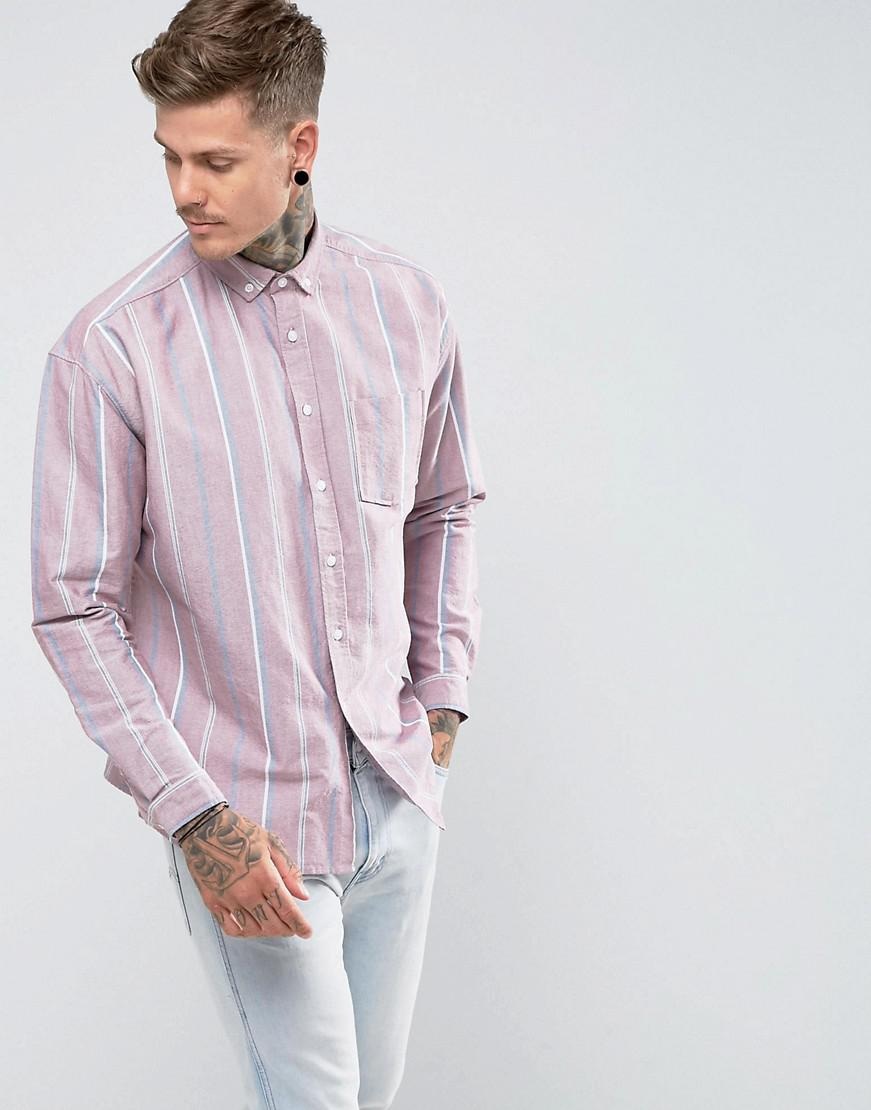teeshirt: (18, 224, 500, 861)
